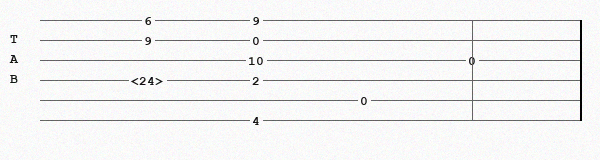0: (252, 34, 264, 46), (360, 94, 372, 106), (468, 54, 480, 66)
10: (248, 54, 268, 66)
2: (252, 74, 264, 86)
4: (252, 114, 264, 126)
6: (144, 14, 156, 26)
9: (144, 34, 156, 46), (252, 14, 264, 26)
harmonic: (131, 74, 168, 86)
